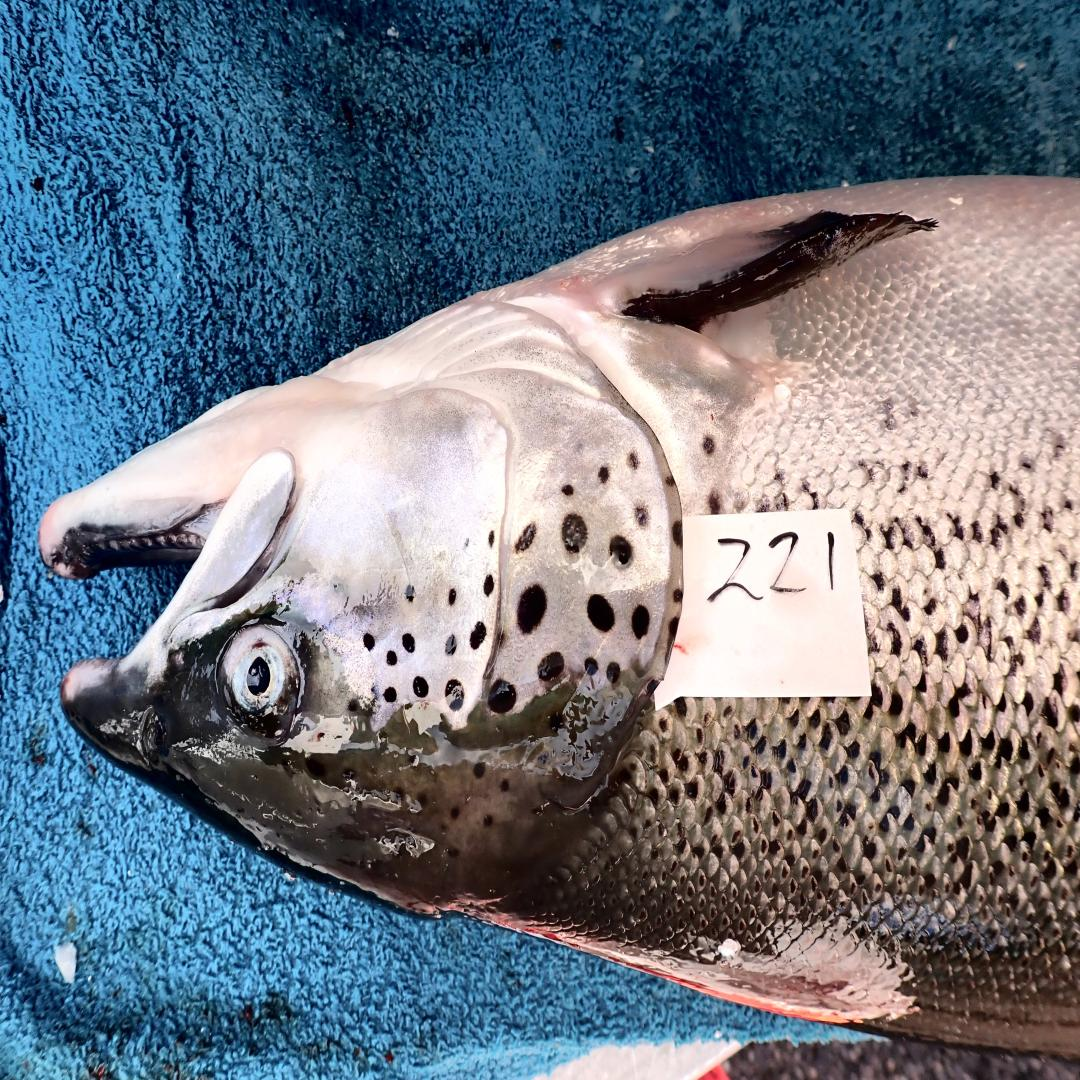spot: (517, 585, 546, 633), (586, 593, 614, 633), (561, 515, 589, 554), (487, 681, 517, 714), (538, 652, 565, 681), (610, 534, 633, 565), (445, 678, 464, 712), (515, 523, 536, 551), (633, 605, 650, 638), (470, 622, 487, 650), (413, 675, 428, 698), (605, 661, 620, 683), (635, 506, 648, 526), (672, 520, 682, 546), (584, 658, 599, 675), (669, 615, 680, 638), (403, 633, 416, 652), (483, 574, 494, 596), (626, 453, 639, 470), (384, 686, 397, 703), (445, 636, 456, 655), (363, 633, 375, 650), (599, 467, 610, 484), (447, 588, 458, 605), (386, 650, 397, 667), (405, 585, 416, 602), (487, 532, 496, 548), (348, 699, 360, 711), (673, 589, 683, 602), (563, 484, 574, 495)
